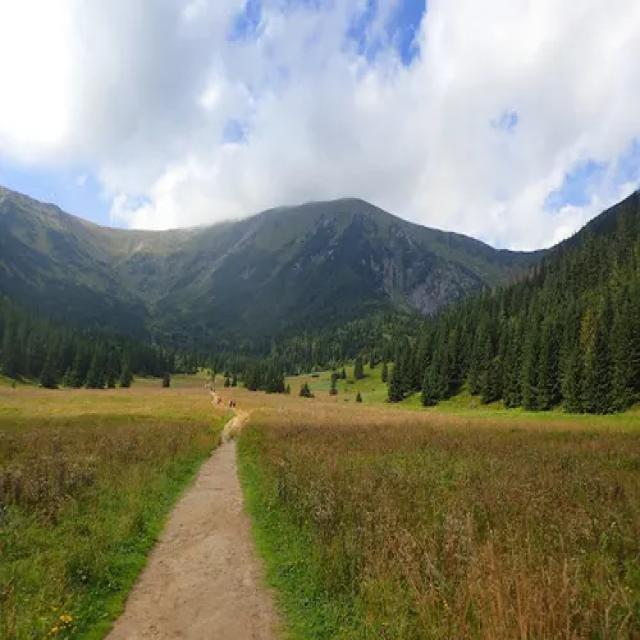Kopa Kondracka: (287, 141, 421, 256)
